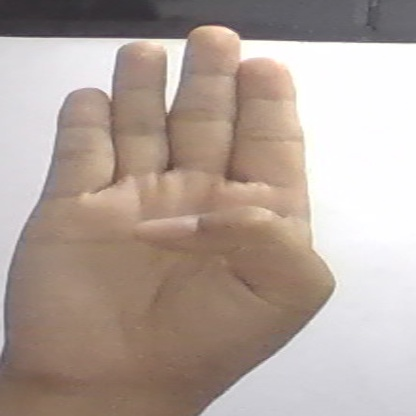B: (3, 26, 336, 388)
